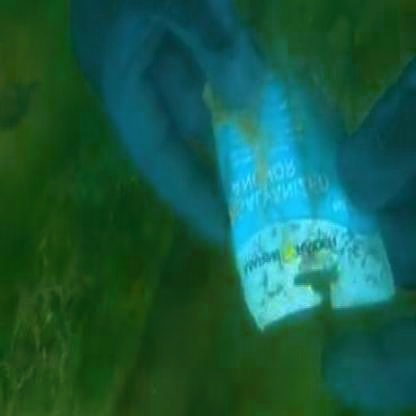plastic: (200, 87, 384, 335)
